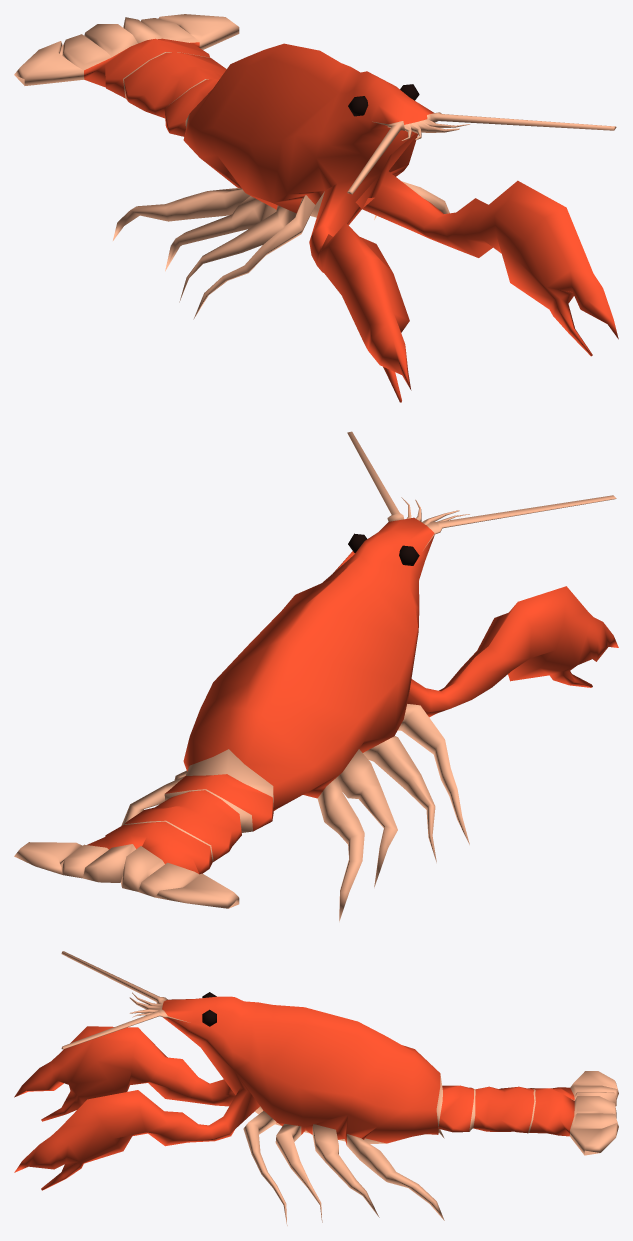
File: NOVELO_CRAYFISH.obj
3 views of the same model, one above another, from view 1: azimuth 30°, elevation 25°; view 2: azimuth 150°, elevation 25°; view 3: azimuth 270°, elevation 25° (orthographic). The views are drawn at different scales.
Parts seen in each view (by area): view 1: CRAYFISH.1; view 2: CRAYFISH.1; view 3: CRAYFISH.1.
Boxes of the visible parts, left/top/right/bottom form: CRAYFISH.1: left=14, top=14, right=618, bottom=402; CRAYFISH.1: left=14, top=431, right=618, bottom=921; CRAYFISH.1: left=14, top=951, right=618, bottom=1225.
Size of the model in its own units: 275 by 235 by 699.
